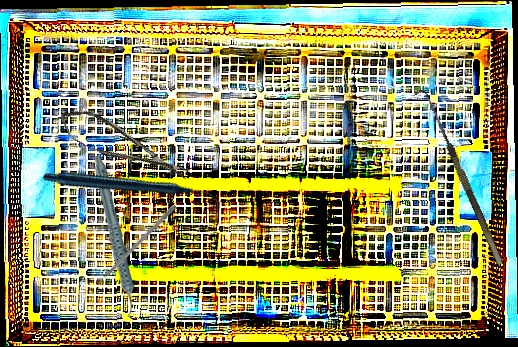Handpiece: (41, 102, 218, 275), (89, 156, 137, 317)
Hook Surgical: (413, 87, 504, 270)
Micro Scissor: (53, 99, 194, 194)
Pusher: (90, 203, 177, 291)
